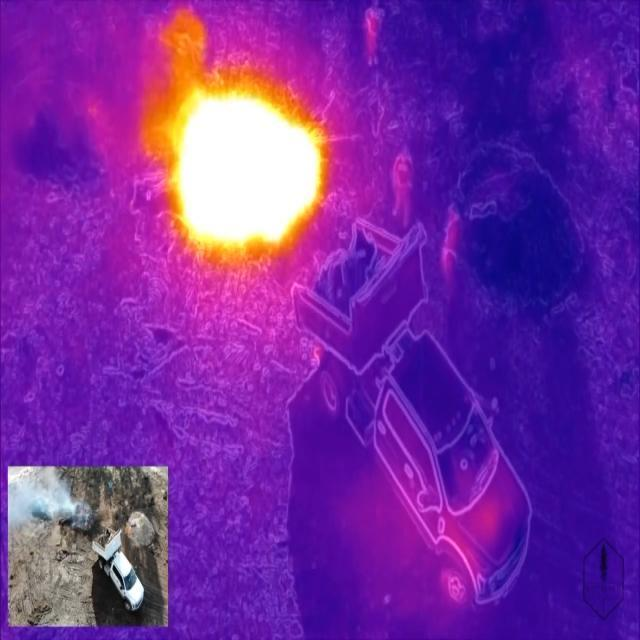fire: (163, 70, 328, 262)
